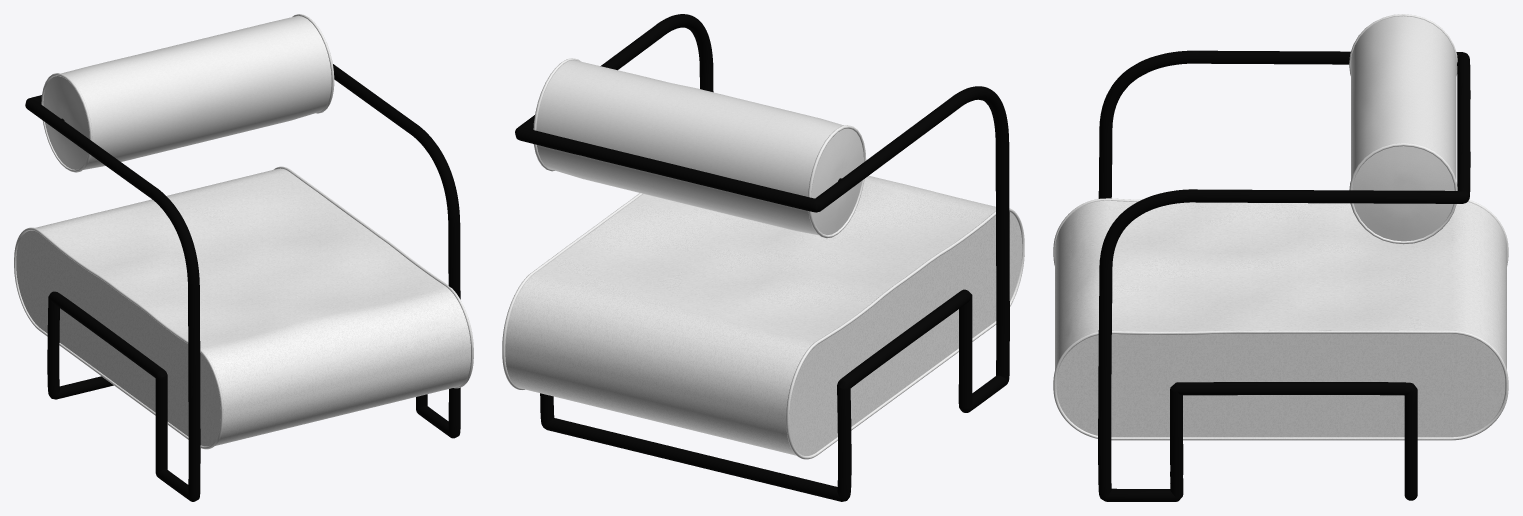
The model's file is sofa_chair.glb.
3 views of the same model, side by side, from view 1: azimuth 30°, elevation 25°; view 2: azimuth 150°, elevation 25°; view 3: azimuth 270°, elevation 25° (orthographic). The views are drawn at different scales.
Parts seen in each view (by area): view 1: Cube_Cushion_0, Frame_Frame_0; view 2: Cube_Cushion_0, Frame_Frame_0; view 3: Cube_Cushion_0, Frame_Frame_0.
Boxes of the visible parts, x1,y1,x2,y2 form: Cube_Cushion_0: [14, 14, 473, 449]; Frame_Frame_0: [25, 64, 460, 501]; Cube_Cushion_0: [502, 58, 1024, 459]; Frame_Frame_0: [515, 14, 1009, 501]; Cube_Cushion_0: [1053, 14, 1508, 440]; Frame_Frame_0: [1098, 50, 1470, 501].
Size of the model in its own units: 1.01 by 1.15 by 1.34.
2 materials, 1 textured.
